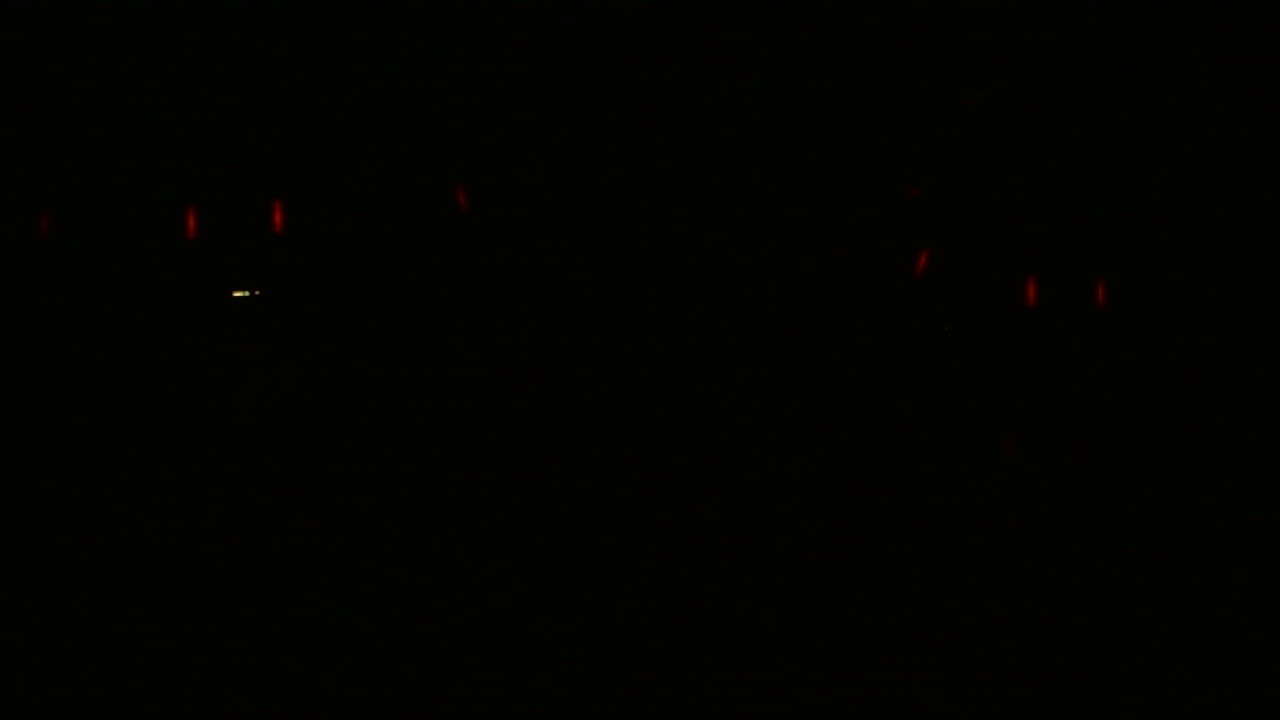pair1: (179, 193, 288, 242), (1020, 270, 1108, 315)
